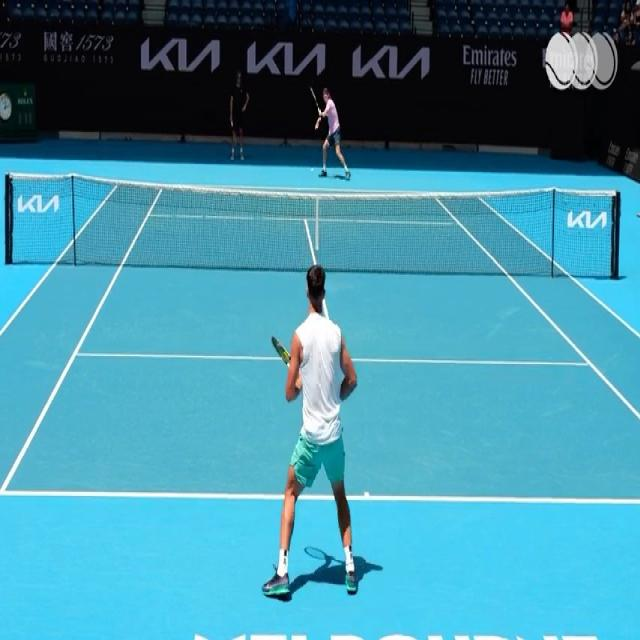ready-position: (268, 257, 362, 607)
